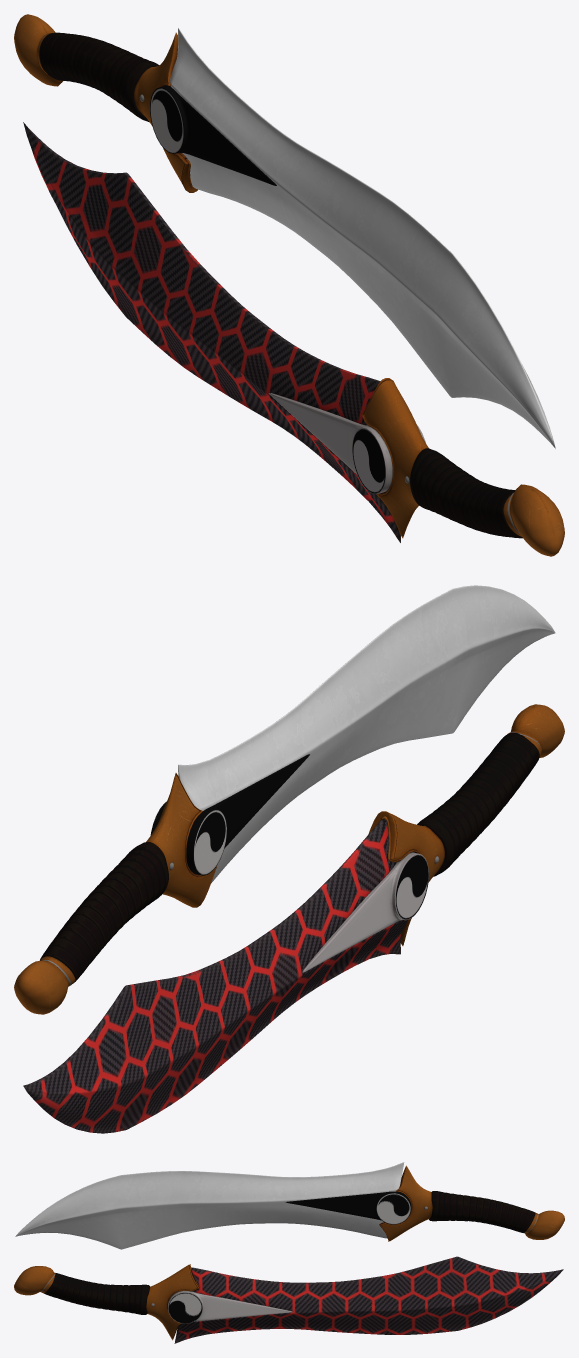
The model's file is emiyas_daggers__fatestay_night.glb.
The picture shows the model from 3 angles, top to bottom: view 1: azimuth 30°, elevation 25°; view 2: azimuth 150°, elevation 25°; view 3: azimuth 270°, elevation 25°; orthographic projection. The views are drawn at different scales.
Parts seen in each view (by area): view 1: pasted__Blade, Blade, Handle1, Grip_Straps, pasted__Grip_Straps, pasted__Blade_Triangle, Blade_Triangle, pasted__Handle1; view 2: Blade, pasted__Blade, pasted__Grip_Straps, pasted__Handle1, Grip_Straps, Blade_Triangle, pasted__Blade_Triangle, Handle1; view 3: pasted__Blade, Blade, pasted__Grip_Straps, Grip_Straps, Handle1, pasted__Handle1, Blade_Triangle, pasted__Blade_Triangle.
Boxes of the visible parts, <box> form: pasted__Blade: <box>170,28,555,448</box>; Blade: <box>23,122,400,542</box>; Handle1: <box>362,378,564,556</box>; Grip_Straps: <box>410,448,522,538</box>; pasted__Grip_Straps: <box>39,32,159,122</box>; pasted__Blade_Triangle: <box>150,85,276,185</box>; Blade_Triangle: <box>269,393,425,494</box>; pasted__Handle1: <box>14,14,197,192</box>; Blade: <box>23,818,407,1133</box>; pasted__Blade: <box>178,585,555,883</box>; pasted__Grip_Straps: <box>39,842,168,983</box>; pasted__Handle1: <box>14,773,216,1014</box>; Grip_Straps: <box>417,732,539,876</box>; Blade_Triangle: <box>302,852,428,972</box>; pasted__Blade_Triangle: <box>150,754,309,875</box>; Handle1: <box>368,704,564,945</box>; pasted__Blade: <box>15,1162,404,1249</box>; Blade: <box>174,1256,563,1343</box>; pasted__Grip_Straps: <box>429,1191,535,1232</box>; Grip_Straps: <box>44,1273,149,1314</box>; Handle1: <box>14,1264,198,1340</box>; pasted__Handle1: <box>380,1165,564,1241</box>; Blade_Triangle: <box>168,1290,293,1323</box>; pasted__Blade_Triangle: <box>285,1191,410,1224</box>.
Bounding box in the file's own units: 1.51 × 11.8 × 32.42.
Materials: 10 (10 with a texture image).
